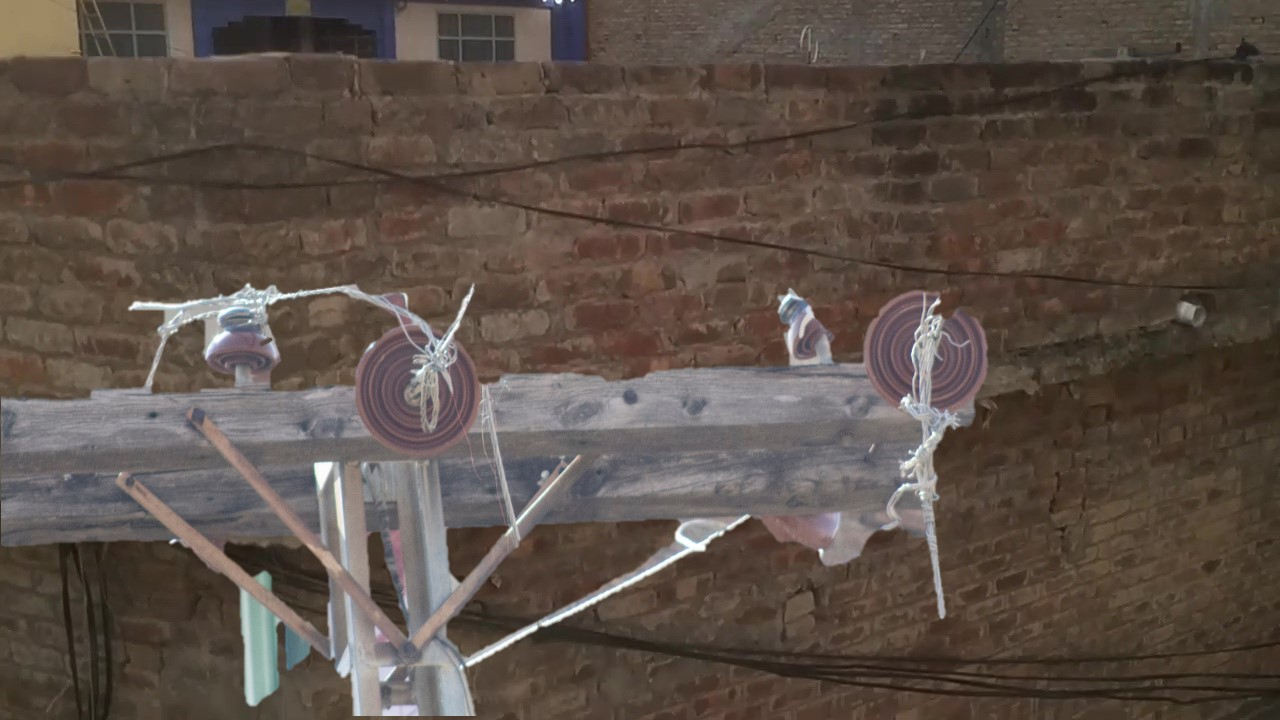defect_pin: (773, 284, 839, 371)
insulator_disc: (352, 316, 486, 462), (860, 283, 994, 417)
insulator_pin: (199, 296, 288, 382)
